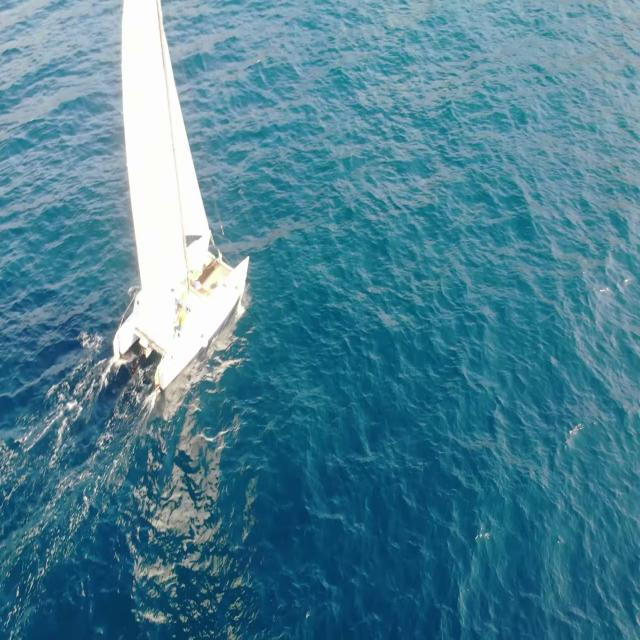sailboat: (102, 0, 250, 396)
